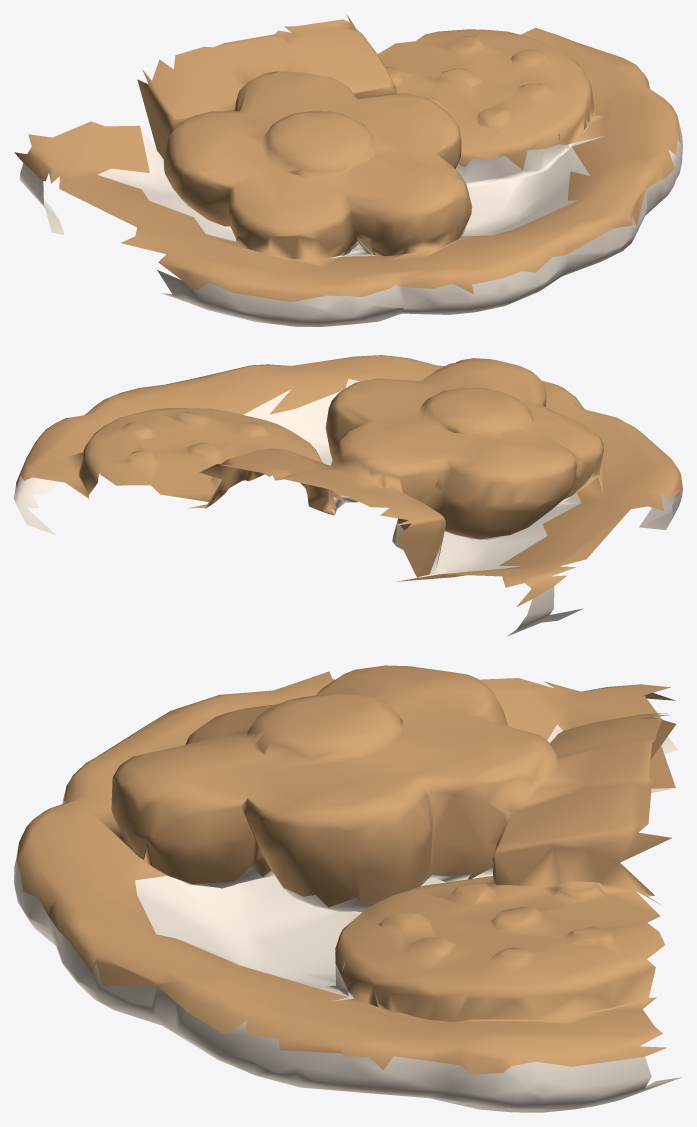
File: daisy_cookies.glb
3 renders of one model, top to bottom at view 1: azimuth 30°, elevation 25°; view 2: azimuth 150°, elevation 25°; view 3: azimuth 270°, elevation 25°, orthographic. The views are drawn at different scales.
Size of the model in its own units: 0.42 by 0.0889 by 0.3129.
